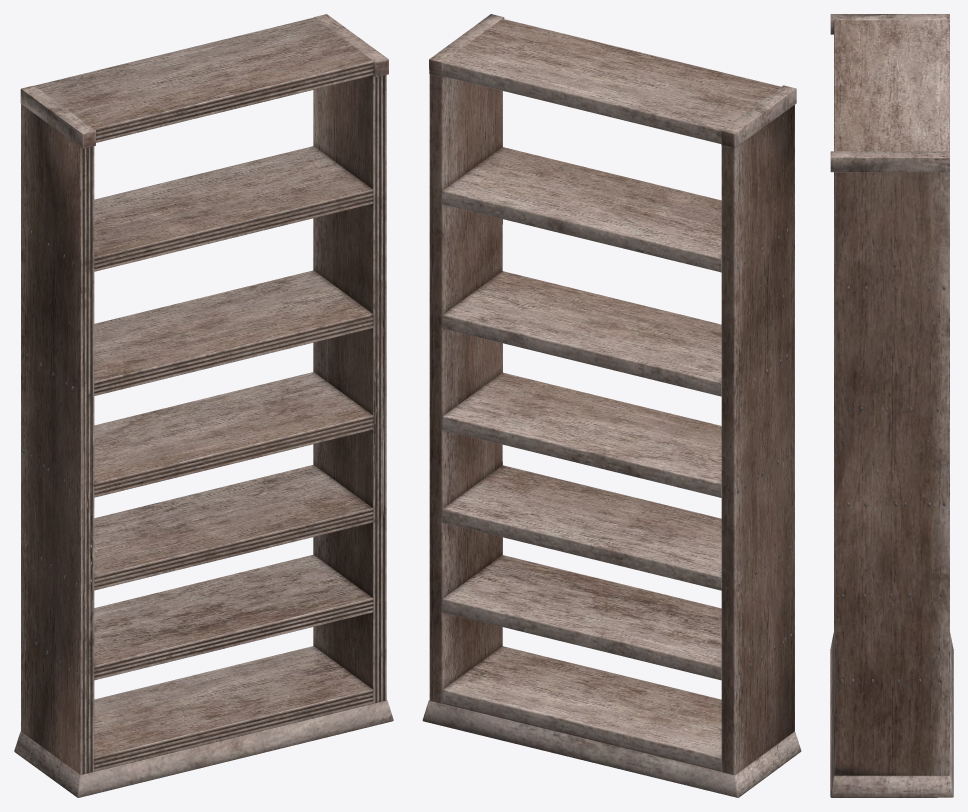
Rendered from wooden_bookshelf_worn_lod1.glb.
The picture shows the model from 3 angles, left to right: view 1: azimuth 30°, elevation 25°; view 2: azimuth 150°, elevation 25°; view 3: azimuth 270°, elevation 25°; orthographic projection. The views are drawn at different scales.
Visible parts, largest first — view 1: wooden_bookshelf_worn; view 2: wooden_bookshelf_worn; view 3: wooden_bookshelf_worn.
Part boxes in pixels (x1,y1,x2,y2): wooden_bookshelf_worn: (14, 14, 393, 797); wooden_bookshelf_worn: (422, 14, 801, 797); wooden_bookshelf_worn: (830, 14, 953, 797).
Size of the model in its own units: 1 by 2 by 0.3501.
1 material, 1 textured.
